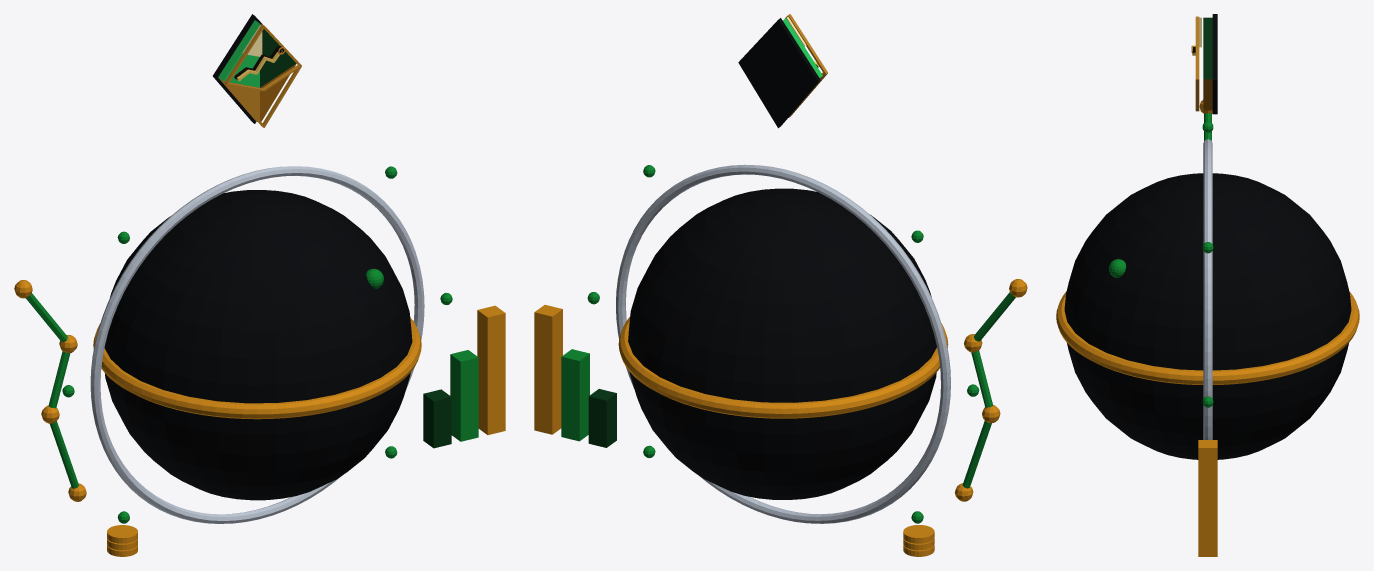
File: ezymap-set-3-orbit-globe.obj
The picture shows the model from 3 angles, left to right: view 1: azimuth 30°, elevation 25°; view 2: azimuth 150°, elevation 25°; view 3: azimuth 270°, elevation 25°; orthographic projection. The views are drawn at different scales.
Parts seen in each view (by area): view 1: globe, orbit_halo, equator, bar_2, bar_1, bar_0, logo_facet_top_left, logo_frame, logo_facet_top_right, logo_rim; view 2: globe, orbit_halo, equator, logo_rim, bar_2, bar_1, bar_0; view 3: globe, equator, orbit_halo, bar_2, logo_facet_top_right, logo_rim, logo_frame.
Part boxes in pixels (x1=…): globe: x1=104, y1=190, x2=412, y2=500; orbit_halo: x1=90, y1=166, x2=424, y2=523; equator: x1=93, y1=317, x2=421, y2=419; bar_2: x1=477, y1=305, x2=505, y2=434; bar_1: x1=450, y1=350, x2=478, y2=441; bar_0: x1=423, y1=389, x2=451, y2=448; logo_facet_top_left: x1=218, y1=20, x2=259, y2=87; logo_frame: x1=224, y1=24, x2=301, y2=127; logo_facet_top_right: x1=260, y1=24, x2=296, y2=87; logo_rim: x1=213, y1=14, x2=262, y2=123; globe: x1=628, y1=188, x2=936, y2=499; orbit_halo: x1=616, y1=164, x2=950, y2=523; equator: x1=618, y1=316, x2=948, y2=418; logo_rim: x1=738, y1=18, x2=820, y2=128; bar_2: x1=534, y1=305, x2=562, y2=434; bar_1: x1=561, y1=349, x2=589, y2=441; bar_0: x1=588, y1=389, x2=616, y2=447; globe: x1=1064, y1=173, x2=1351, y2=459; equator: x1=1056, y1=291, x2=1359, y2=384; orbit_halo: x1=1203, y1=139, x2=1212, y2=439; bar_2: x1=1198, y1=440, x2=1217, y2=556; logo_facet_top_right: x1=1203, y1=17, x2=1212, y2=79; logo_rim: x1=1212, y1=14, x2=1217, y2=114; logo_frame: x1=1195, y1=16, x2=1199, y2=111.
Size of the model in its own units: 1.08 by 1.07 by 0.632.
